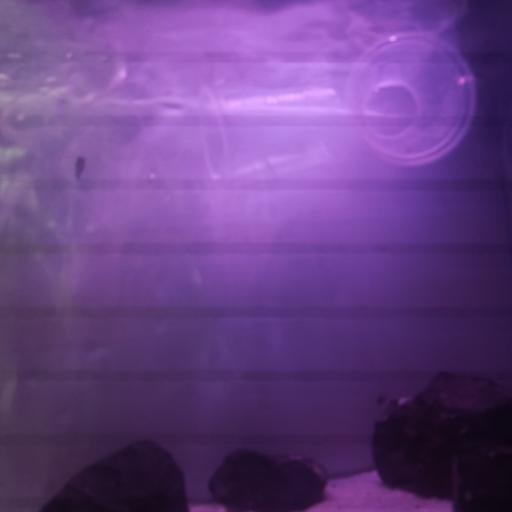plastic_cup: (193, 84, 359, 204), (344, 31, 476, 170)
